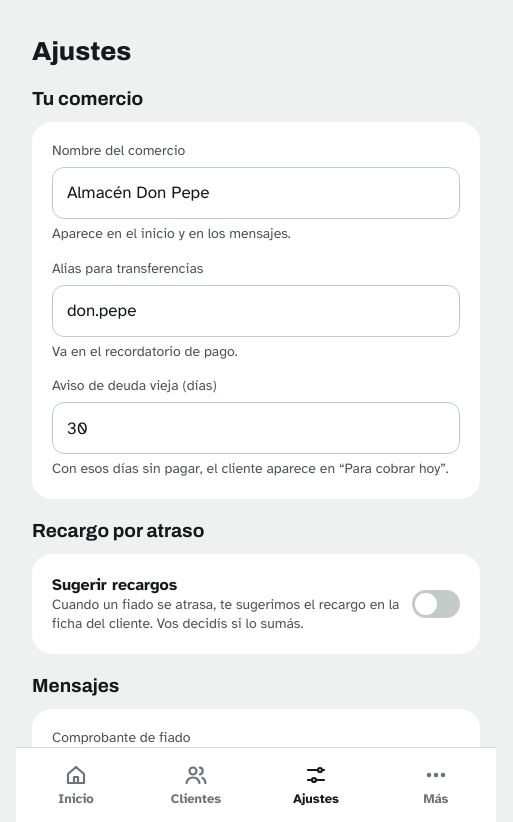
Test: ajustes: recargo por atraso › prenderlo y guardar manda la configuración y avisa que hay que informar a los clientes
Click the switch labelled "Sugerir recargos" at (256, 604), box [52,574,460,634]
(page scrolled)
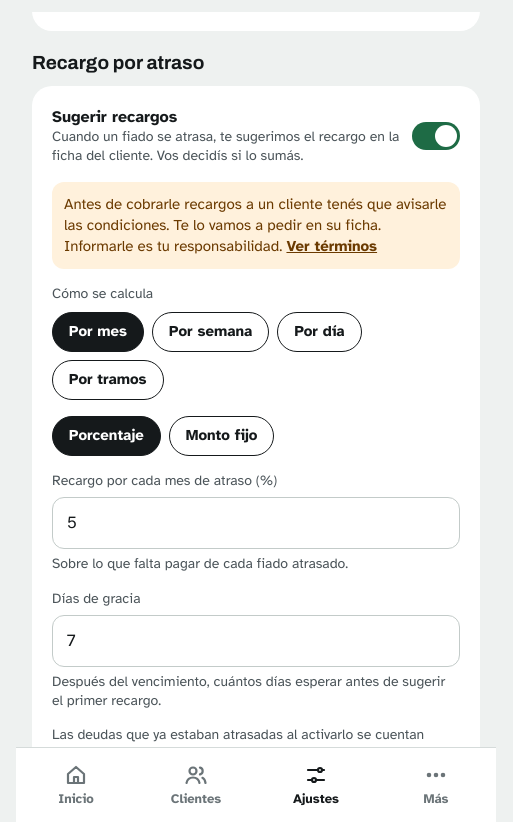
Expected: the text "Informarle es tu responsabilidad" is shown, [64,195,446,255]
Click the button "Por tramos" at (108, 380), box [52,360,164,400]
(page scrolled)
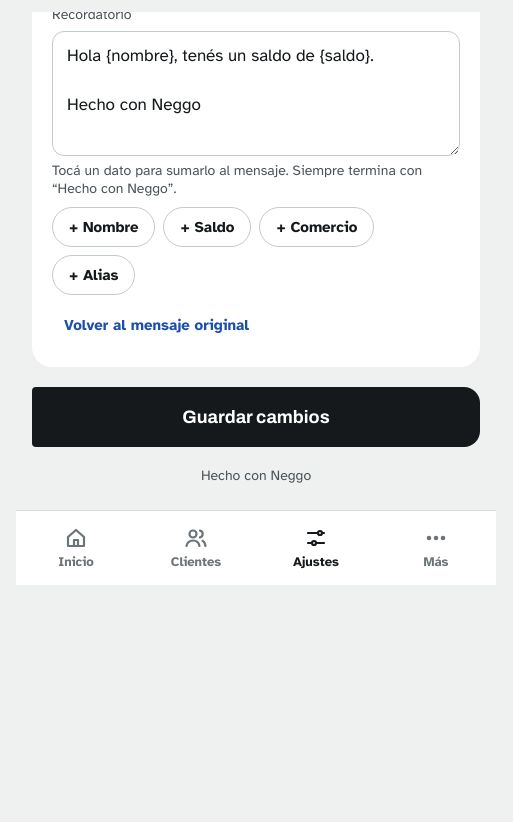
Click the button "Guardar cambios" at (256, 417), box [32,387,480,447]
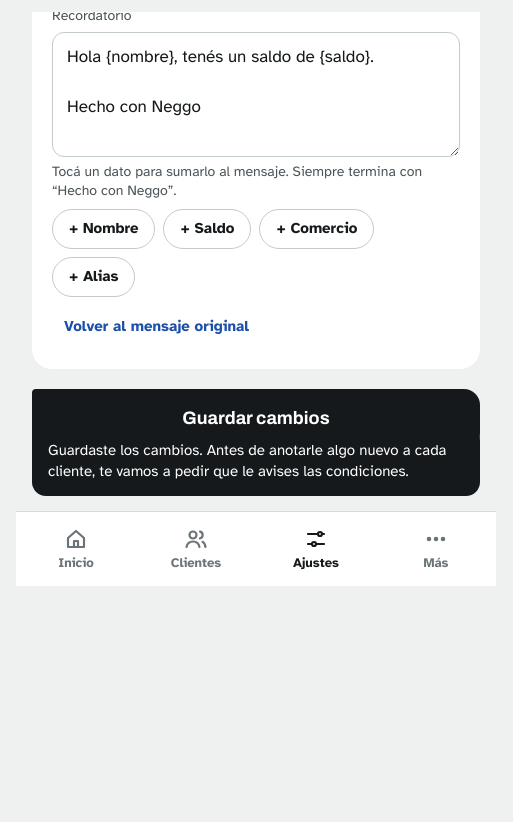
Expected: the text "te vamos a pedir que le avises las condiciones" is shown, [48,441,446,480]
